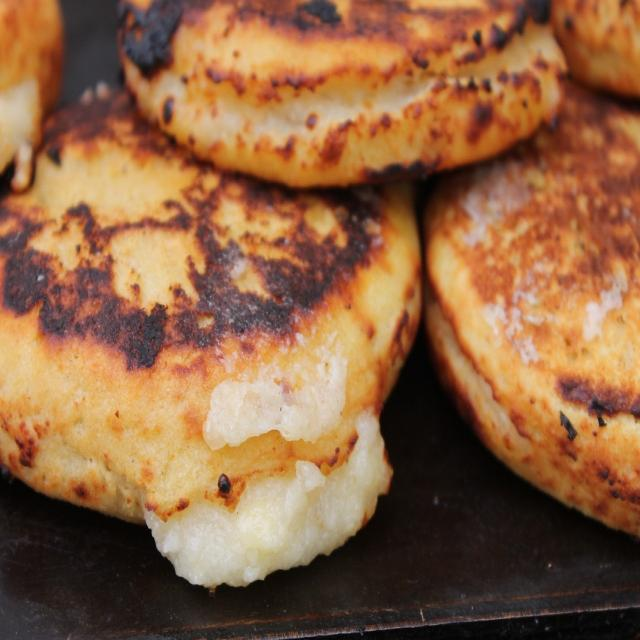arepa: (118, 0, 568, 179)
